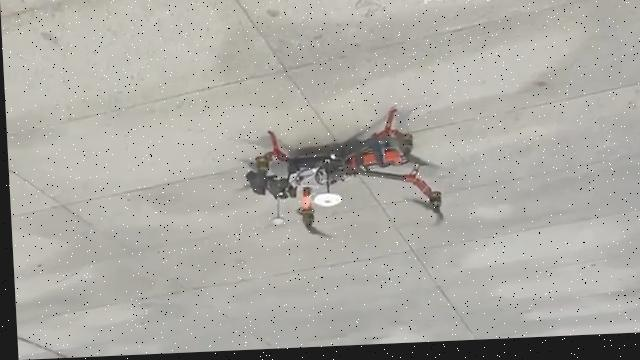drone: (222, 110, 462, 251)
